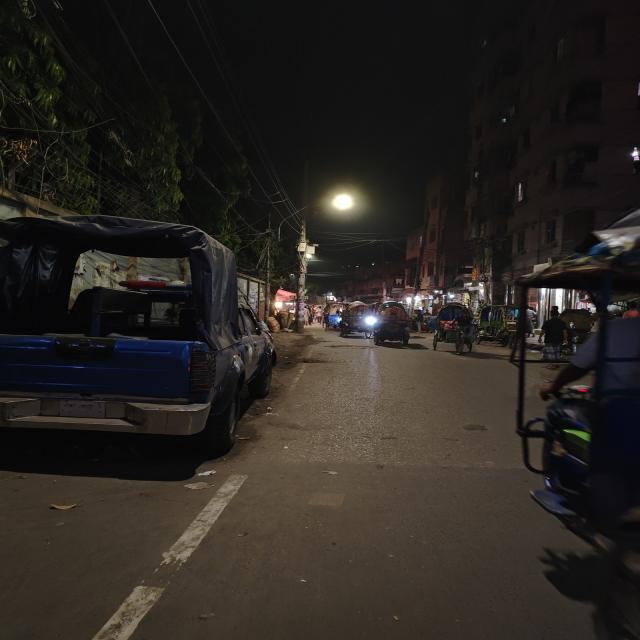car: (0, 199, 276, 463)
pedestrian: (537, 305, 570, 365)
rickshaw: (428, 300, 482, 354), (366, 299, 420, 351), (335, 298, 374, 338)
